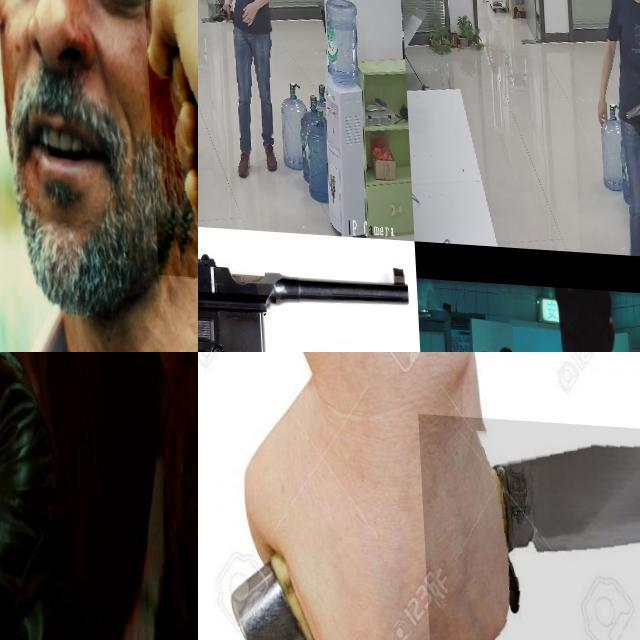-: (416, 410, 640, 640)
gun-knife-thesis - v11 Yolov5 augmented: (198, 227, 414, 352), (135, 0, 198, 276), (0, 508, 61, 640), (619, 82, 640, 112), (206, 1, 232, 21)
